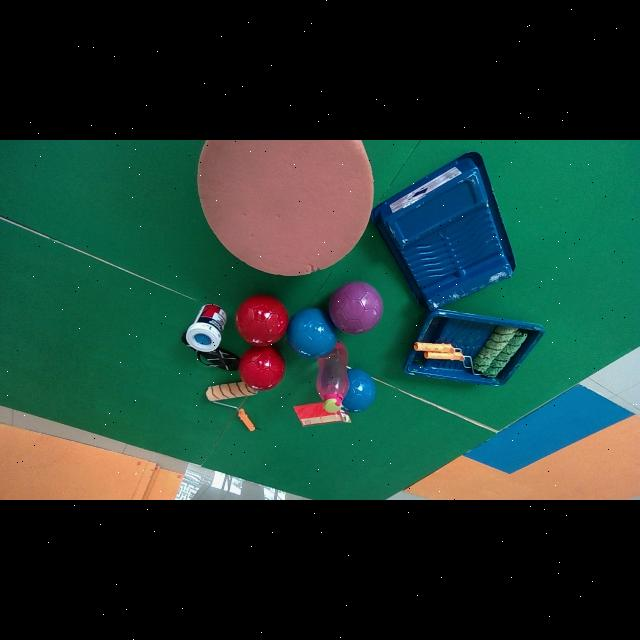B: (287, 308, 337, 358), (342, 368, 376, 412)
P: (329, 282, 383, 334)
R: (235, 294, 290, 347), (239, 346, 285, 391)
